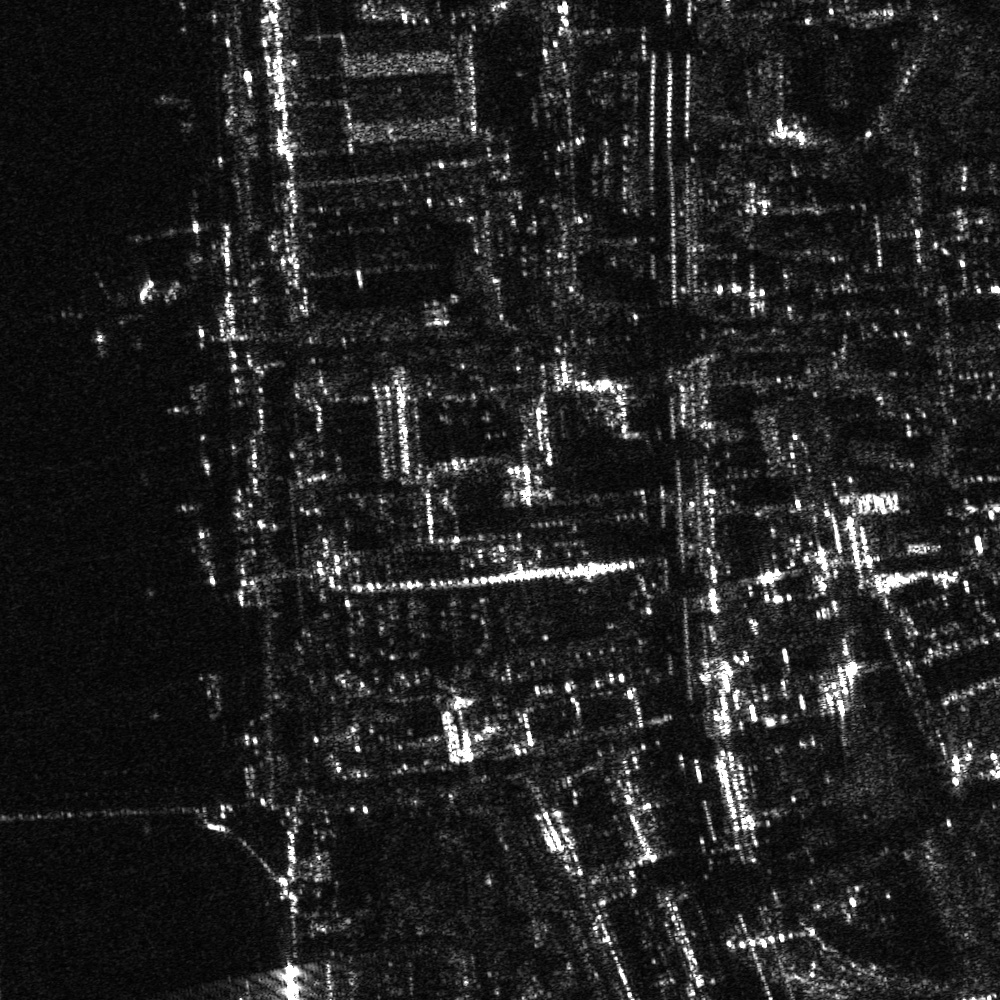A320/321: (129, 191, 218, 258)
other: (50, 273, 149, 354)
